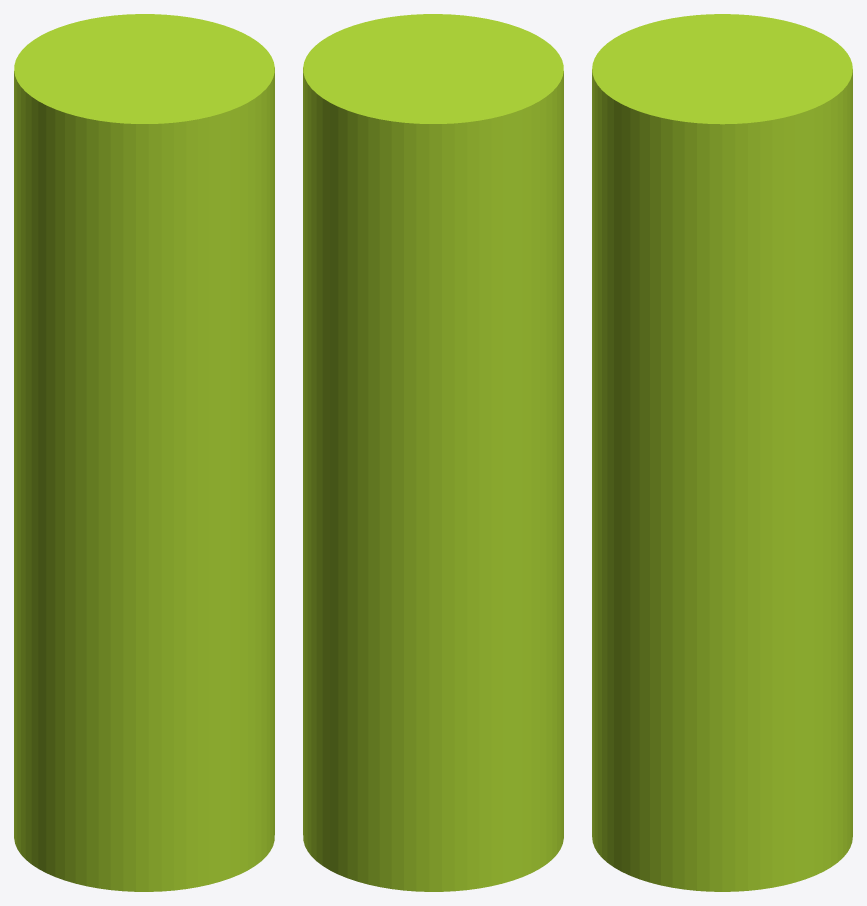
3 renders of one model, left to right at view 1: azimuth 30°, elevation 25°; view 2: azimuth 150°, elevation 25°; view 3: azimuth 270°, elevation 25°, orthographic.
Parts seen in each view (by area): view 1: Cylinder.022; view 2: Cylinder.022; view 3: Cylinder.022.
Boxes of the visible parts, <box> form: Cylinder.022: <box>14,14,274,891</box>; Cylinder.022: <box>303,14,563,891</box>; Cylinder.022: <box>592,14,852,891</box>.
Size of the model in its own units: 0.00563 by 0.0183 by 0.00563.
